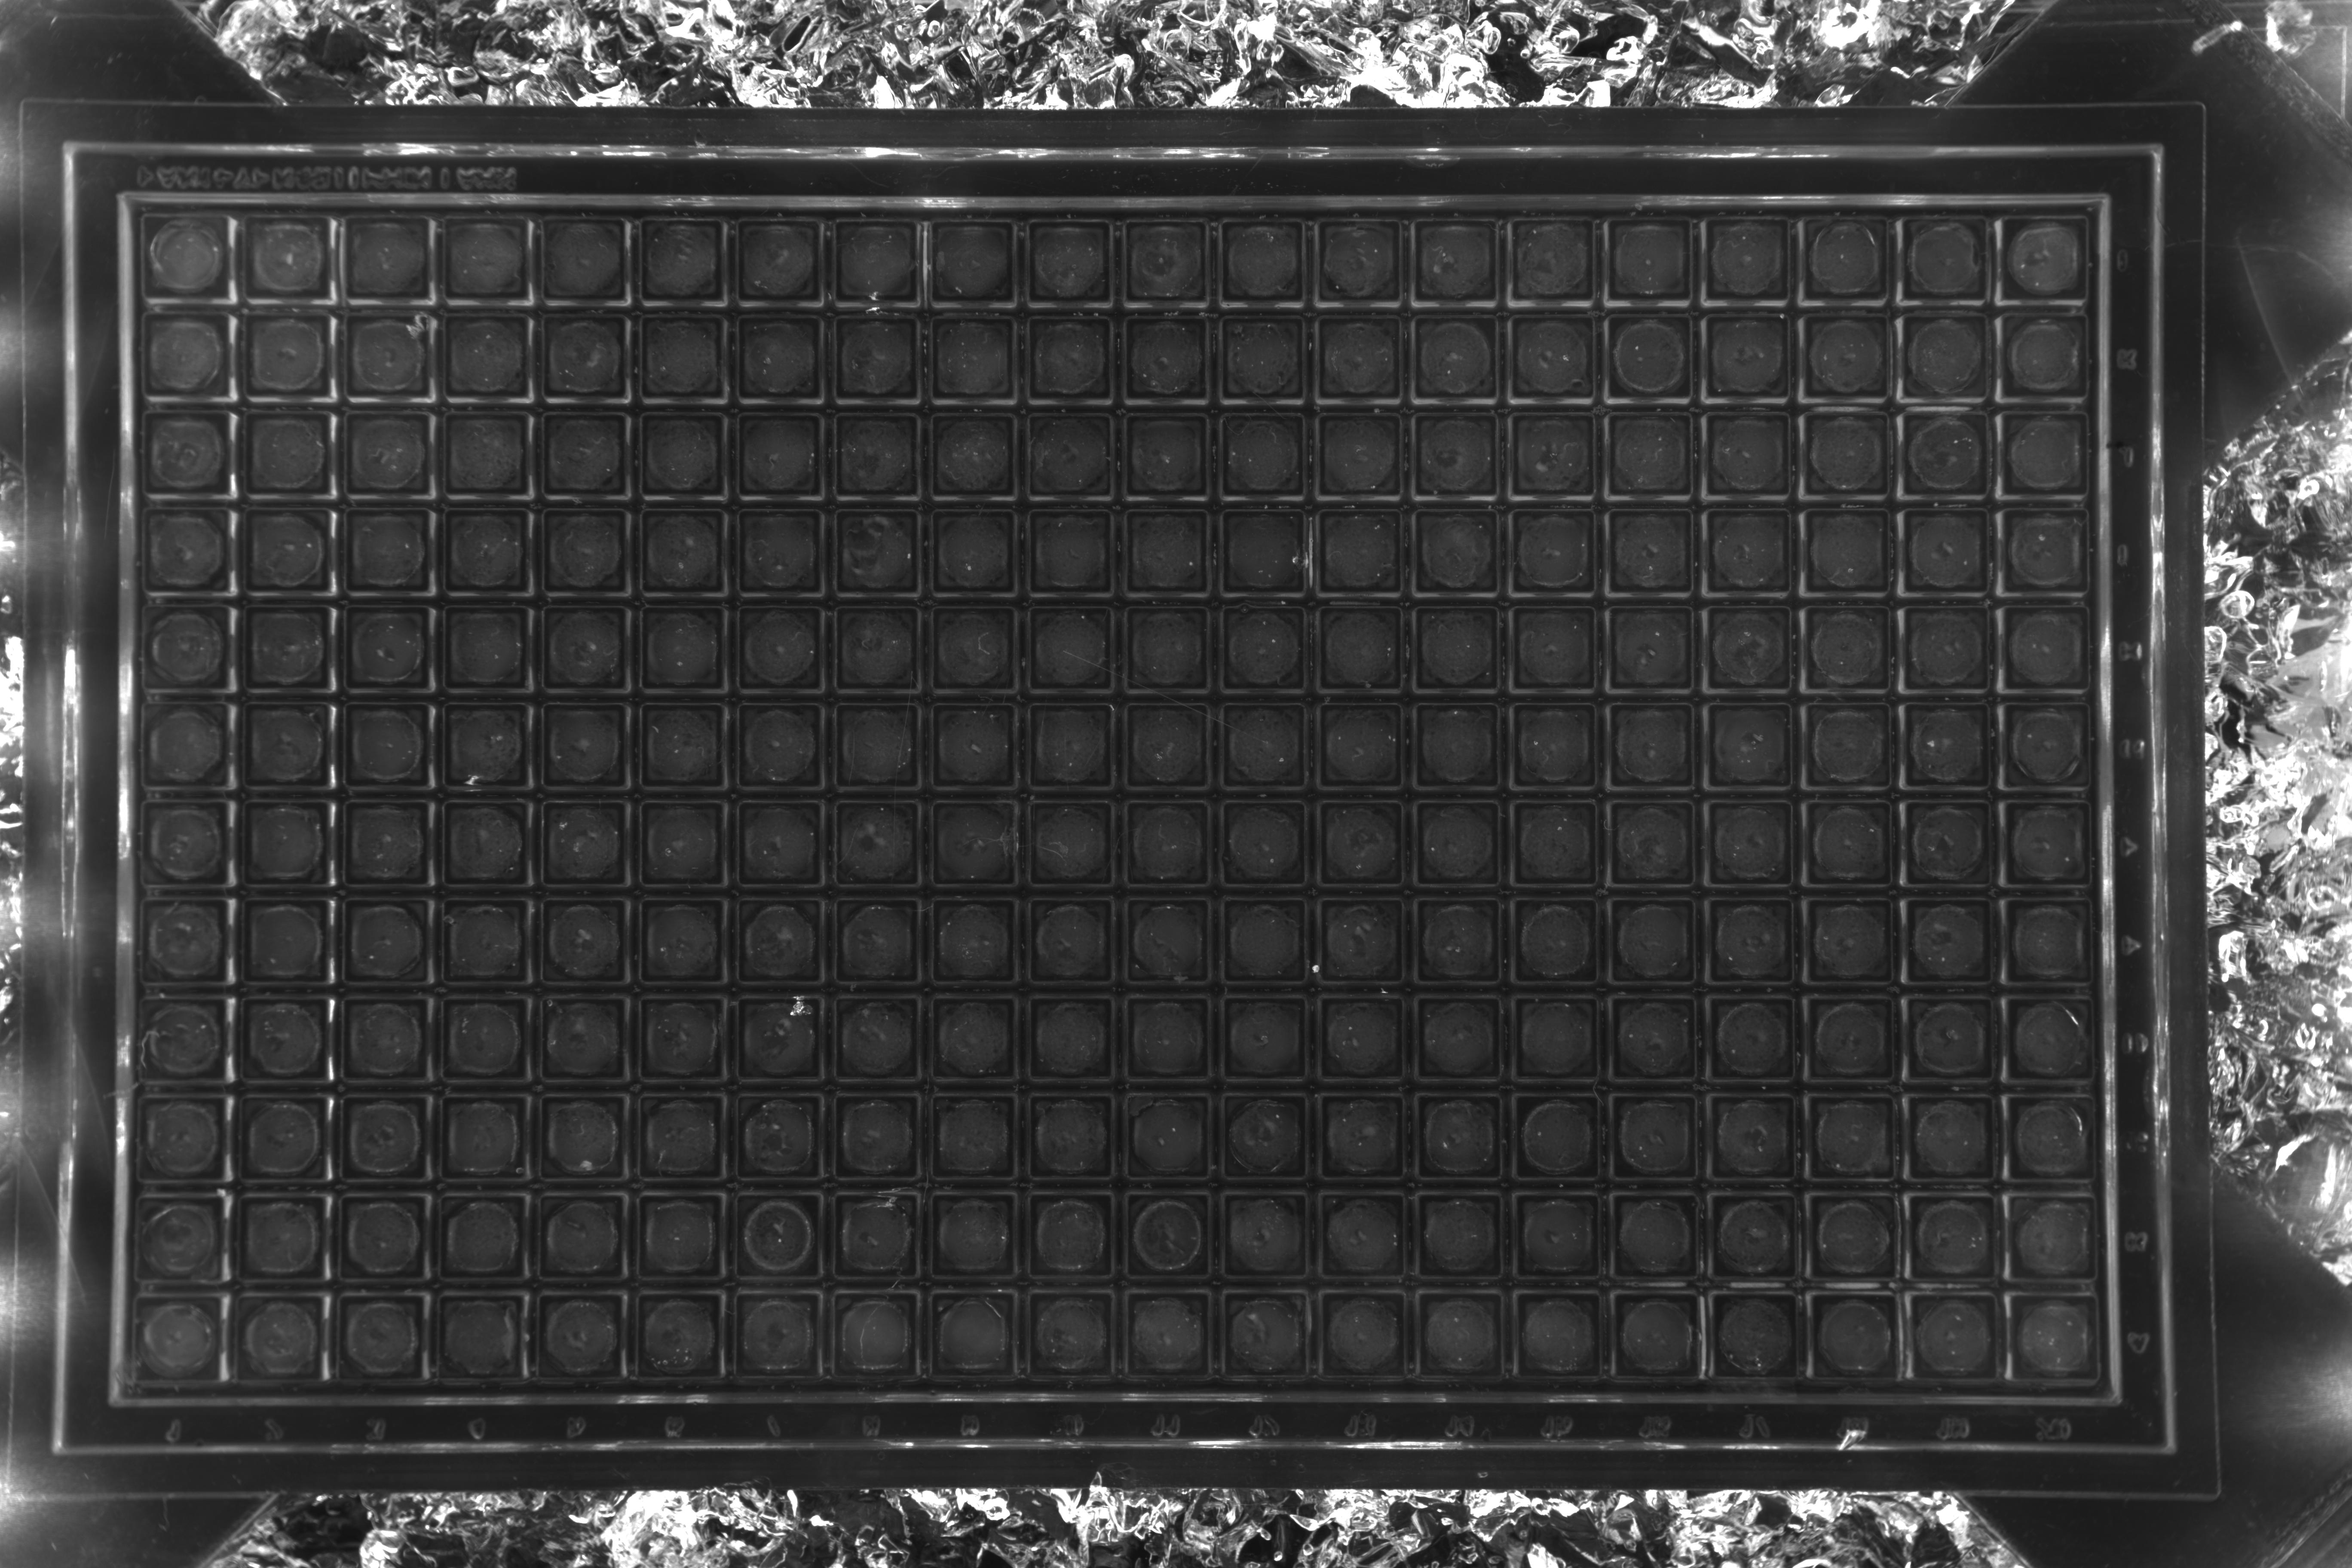WM_well: (399, 651, 488, 738), (786, 1043, 875, 1130), (192, 1242, 280, 1330), (205, 553, 292, 640), (294, 1143, 381, 1230), (303, 360, 390, 448), (392, 1143, 479, 1230), (399, 749, 486, 836), (401, 555, 488, 642), (691, 849, 779, 936), (887, 269, 975, 357), (983, 656, 1071, 744), (983, 850, 1071, 938), (1078, 1337, 1165, 1424), (1080, 464, 1167, 551), (1176, 656, 1263, 744), (1370, 656, 1458, 744), (1372, 1144, 1459, 1232), (1465, 269, 1552, 357), (1466, 850, 1554, 938), (1470, 1244, 1557, 1332), (1564, 850, 1652, 938), (1662, 852, 1750, 940), (1664, 950, 1752, 1038)
